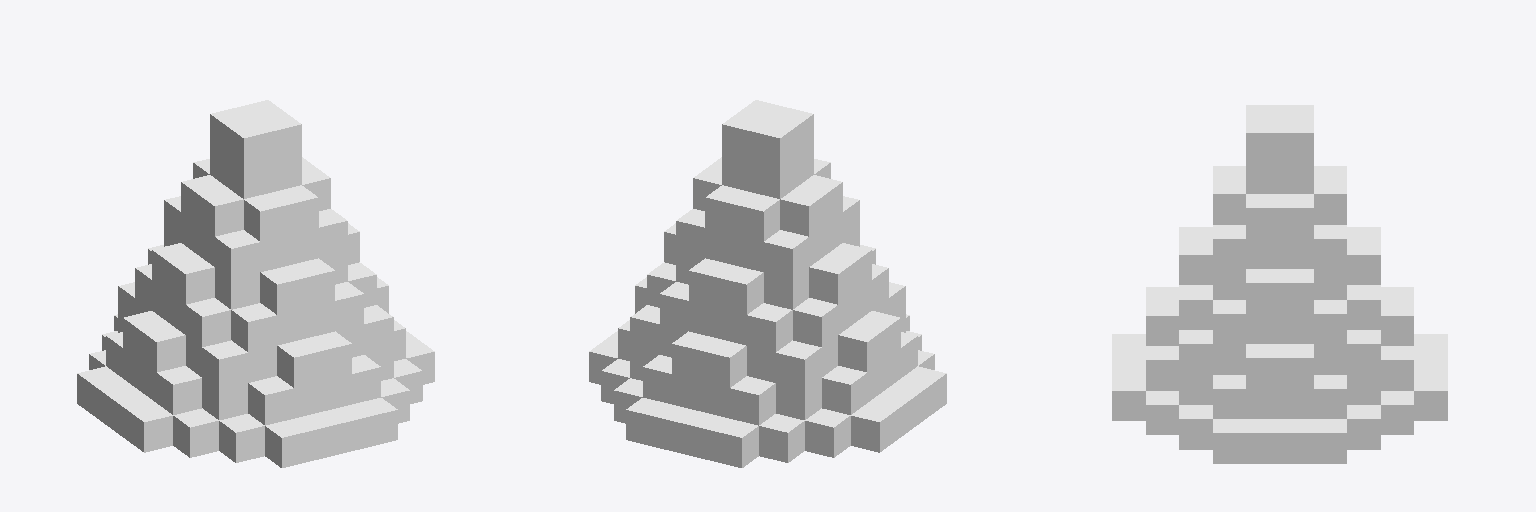
File: template_spike.obj
3 views of the same model, side by side, from view 1: azimuth 30°, elevation 25°; view 2: azimuth 150°, elevation 25°; view 3: azimuth 270°, elevation 25° (orthographic).
Parts seen in each view (by area): view 1: object 1; view 2: object 1; view 3: object 1.
Boxes of the visible parts, <box> form: object 1: <box>77,100,434,467</box>; object 1: <box>589,100,946,467</box>; object 1: <box>1112,105,1447,463</box>.
Size of the model in its own units: 1 by 0.9 by 1.